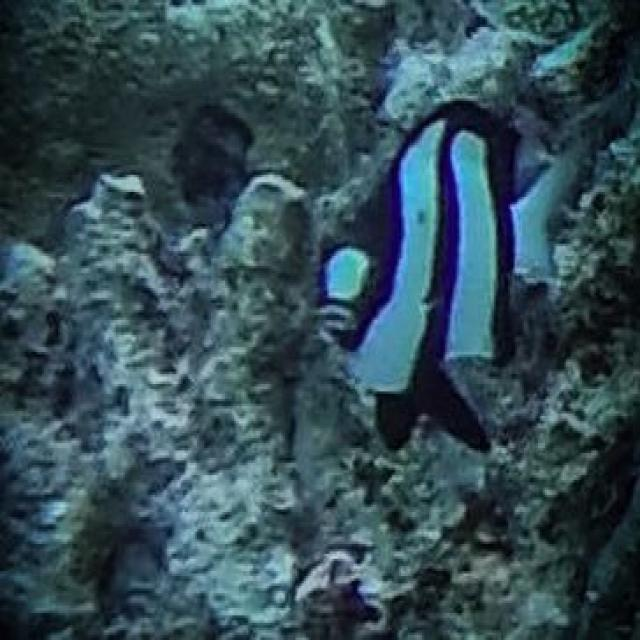Three_striped DasmselFish: (314, 96, 577, 453)
